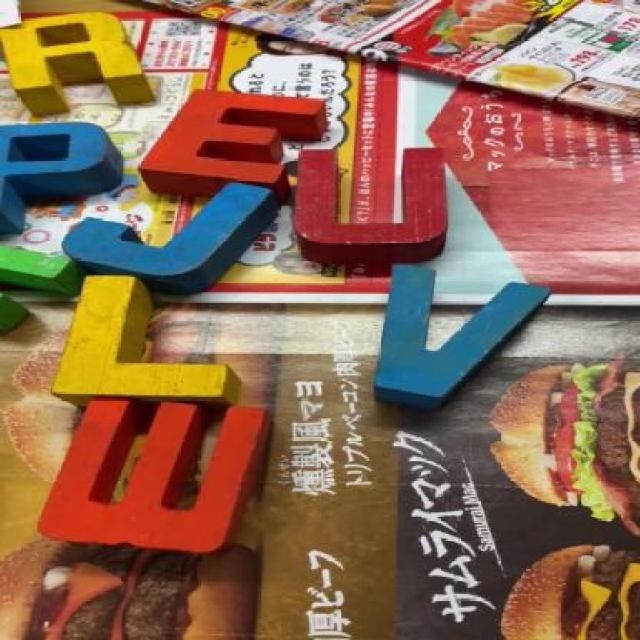E: (142, 91, 318, 189)
J: (62, 187, 284, 279)
L: (63, 274, 254, 400)
R: (0, 14, 157, 108)
U: (294, 144, 449, 258)
V: (367, 263, 548, 415)
W: (53, 398, 272, 556)
